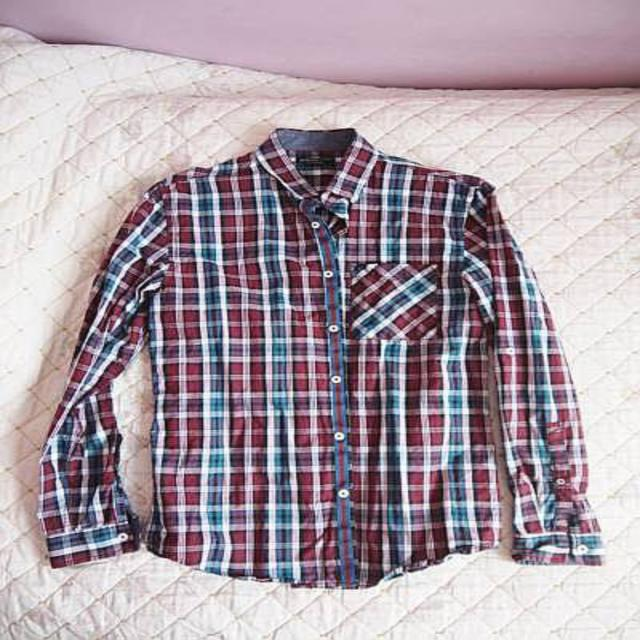SHIRT: (23, 119, 640, 594)
